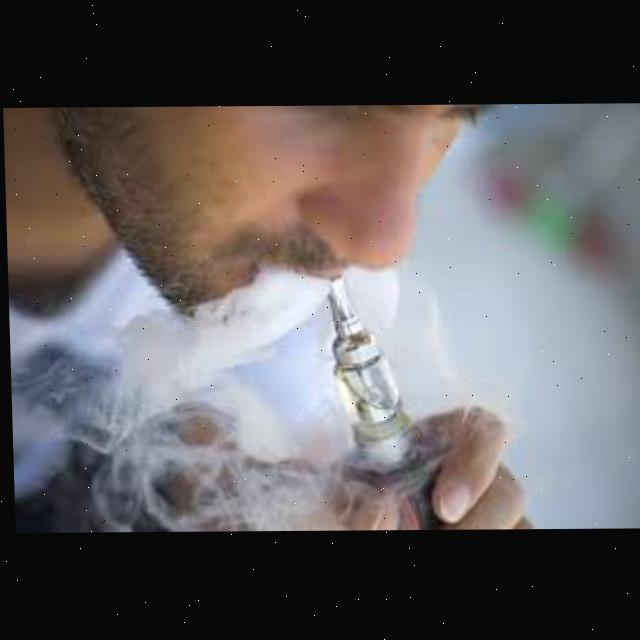vape: (311, 271, 433, 531)
